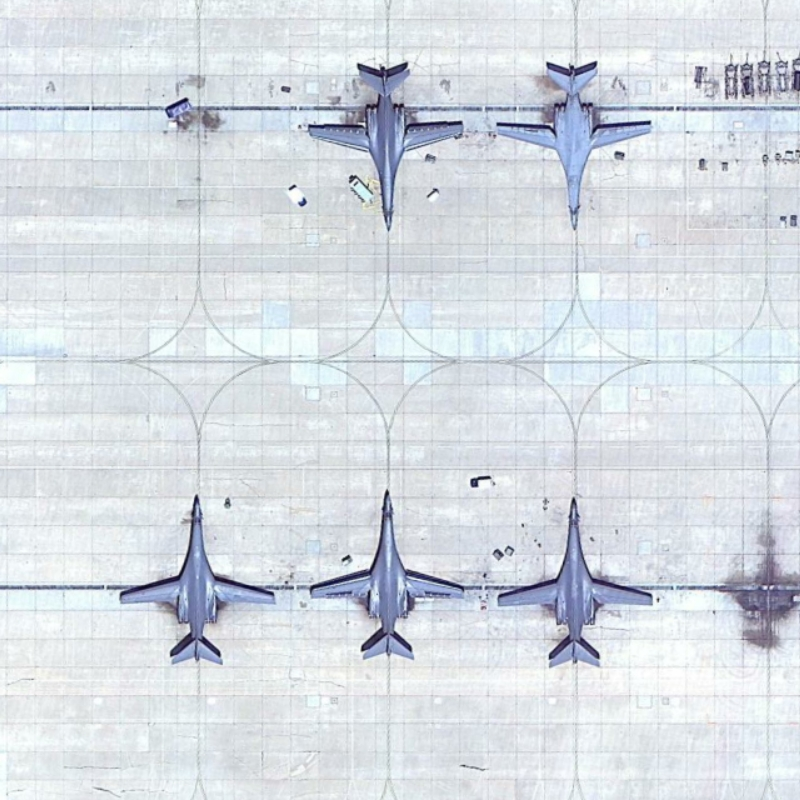A10: (296, 51, 481, 231), (493, 52, 669, 233), (113, 481, 281, 669), (494, 486, 663, 667), (310, 478, 469, 661)
